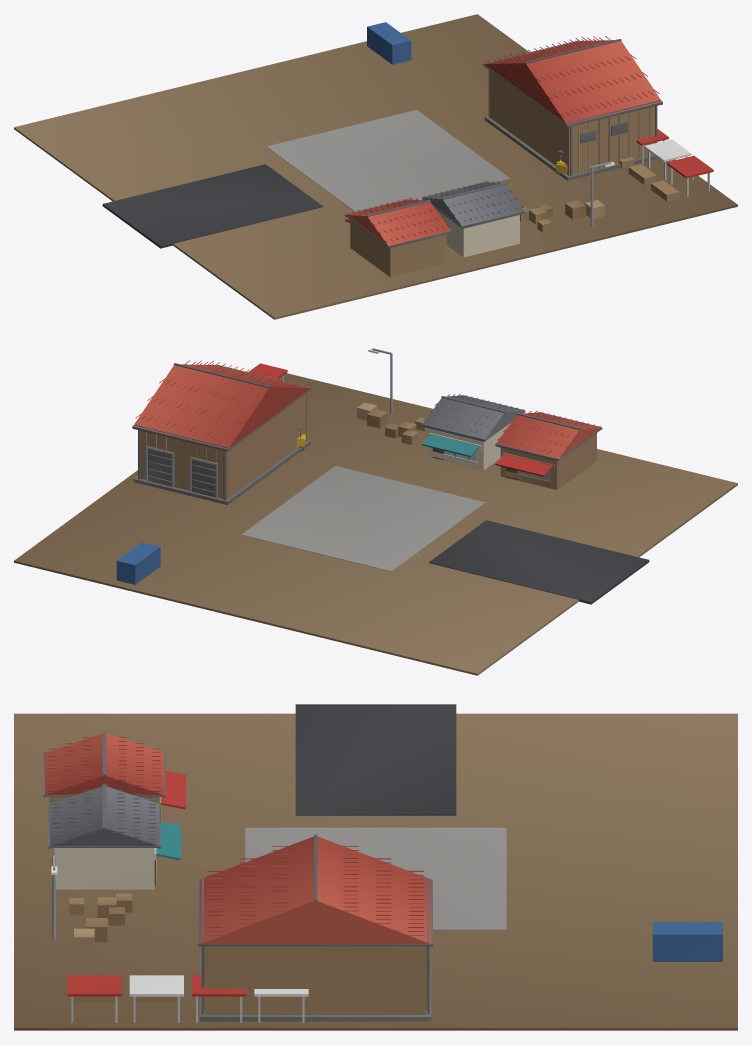
Rendered from Market_P1.fbx.
3 renders of one model, top to bottom at view 1: azimuth 30°, elevation 25°; view 2: azimuth 150°, elevation 25°; view 3: azimuth 270°, elevation 25°, orthographic. The views are drawn at different scales.
Parts seen in each view (by area): view 1: Market.Pad, Market.WH1, Market.Shop0, Market.Shop1, Market.Stalls, Market.Goods; view 2: Market.Pad, Market.WH1, Market.Shop0, Market.Shop1, Market.Goods; view 3: Market.Pad, Market.WH1, Market.Shop1, Market.Shop0, Market.Goods, Market.Stalls.
Boxes of the visible parts, <box> form: Market.Pad: <box>14,14,737,319</box>; Market.WH1: <box>483,36,662,180</box>; Market.Shop0: <box>345,197,451,276</box>; Market.Shop1: <box>422,180,525,257</box>; Market.Stalls: <box>619,129,713,201</box>; Market.Goods: <box>367,22,604,232</box>; Market.Pad: <box>14,373,737,675</box>; Market.WH1: <box>132,360,312,504</box>; Market.Shop0: <box>495,410,602,489</box>; Market.Shop1: <box>422,393,524,470</box>; Market.Goods: <box>116,402,427,584</box>; Market.Pad: <box>14,704,737,1030</box>; Market.WH1: <box>198,834,432,1021</box>; Market.Shop1: <box>48,784,180,889</box>; Market.Shop0: <box>43,731,185,821</box>; Market.Goods: <box>69,893,722,961</box>; Market.Stalls: <box>67,975,308,1022</box>.
Bounding box in the file's own units: 7600 × 1375 × 7200.
